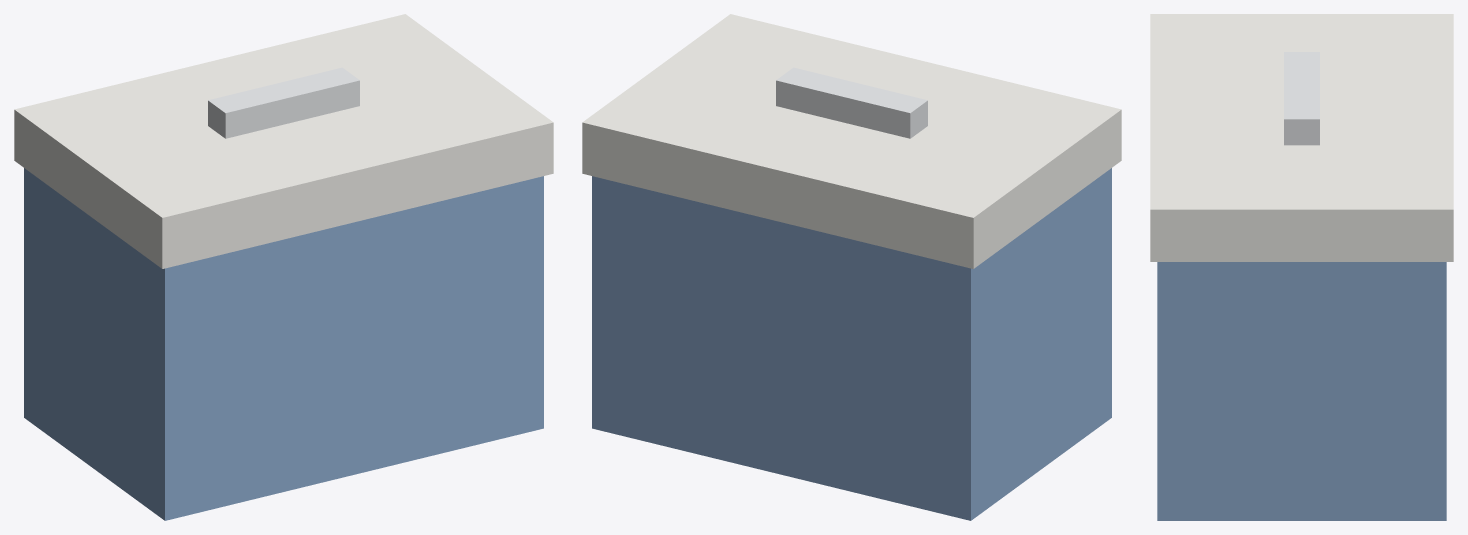
File: cooler.glb
3 views of the same model, side by side, from view 1: azimuth 30°, elevation 25°; view 2: azimuth 150°, elevation 25°; view 3: azimuth 270°, elevation 25° (orthographic). The views are drawn at different scales.
Visible parts, largest first — view 1: cooler; view 2: cooler; view 3: cooler.
Part boxes in pixels (x1,y1,x2,y2): cooler: (14, 14, 553, 520); cooler: (582, 14, 1121, 520); cooler: (1150, 14, 1453, 520).
Size of the model in its own units: 0.64 by 0.52 by 0.42.
